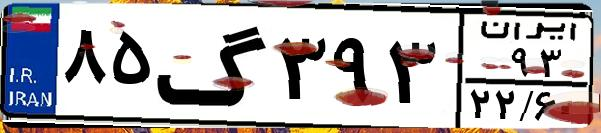0: (560, 70, 590, 125)
2: (470, 70, 495, 125), (495, 70, 520, 125)
3: (270, 28, 330, 110), (385, 28, 445, 110), (537, 27, 568, 80)
5: (110, 28, 156, 98)
6: (535, 70, 560, 125)
8: (57, 26, 110, 100)
9: (330, 28, 385, 110), (508, 27, 537, 80)
گ: (156, 12, 270, 120)
